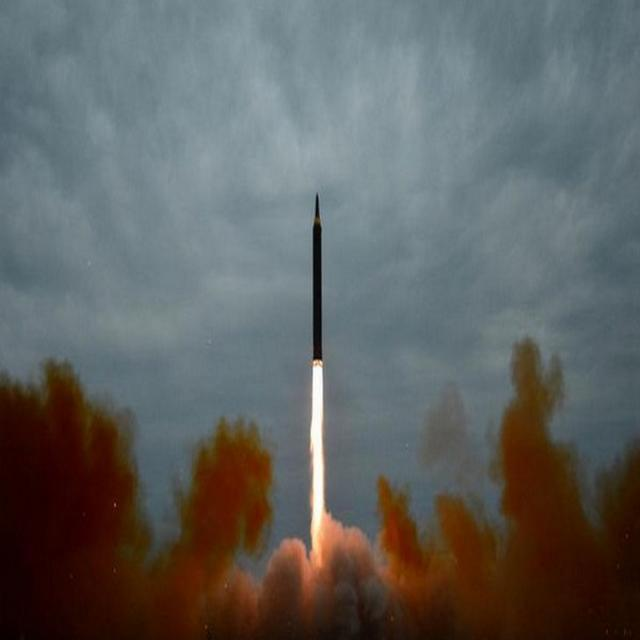missile: (306, 184, 326, 372)
